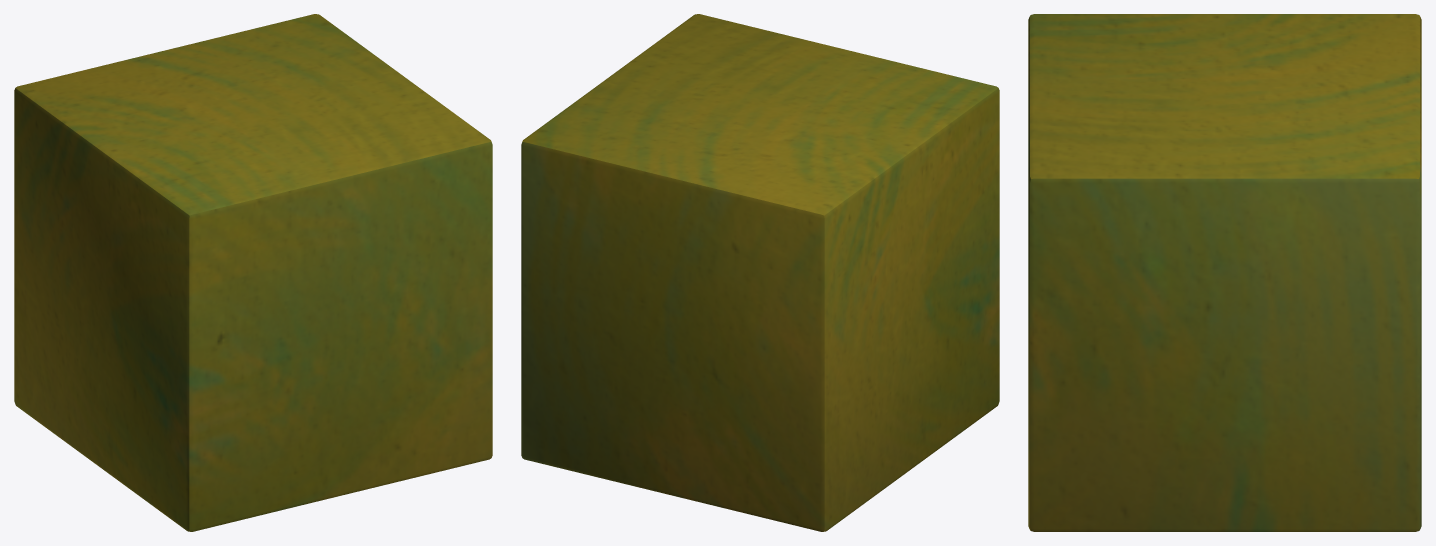
Rendered from FOREST_GROUND_002.obj.
3 renders of one model, left to right at view 1: azimuth 30°, elevation 25°; view 2: azimuth 150°, elevation 25°; view 3: azimuth 270°, elevation 25°, orthographic. The views are drawn at different scales.
Visible parts, largest first — view 1: FOREST_GROUND_002; view 2: FOREST_GROUND_002; view 3: FOREST_GROUND_002.
Part boxes in pixels (left/top/right/bottom): FOREST_GROUND_002: left=14, top=14, right=492, bottom=531; FOREST_GROUND_002: left=521, top=14, right=999, bottom=531; FOREST_GROUND_002: left=1028, top=14, right=1421, bottom=531.
Size of the model in its own units: 1 by 1 by 1.
